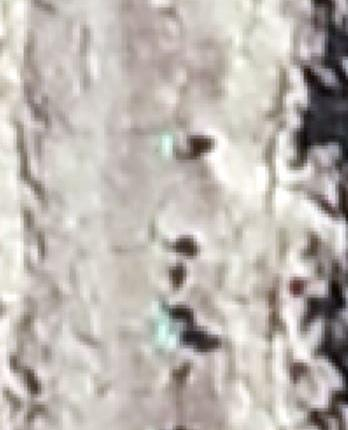cotton: (161, 322, 184, 341), (156, 305, 172, 326), (161, 133, 175, 154), (160, 237, 170, 253)
